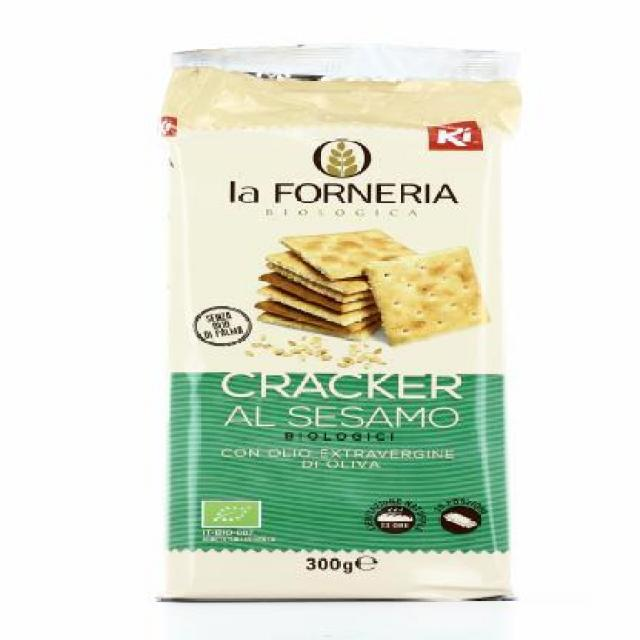Cracker: (160, 45, 523, 607)
